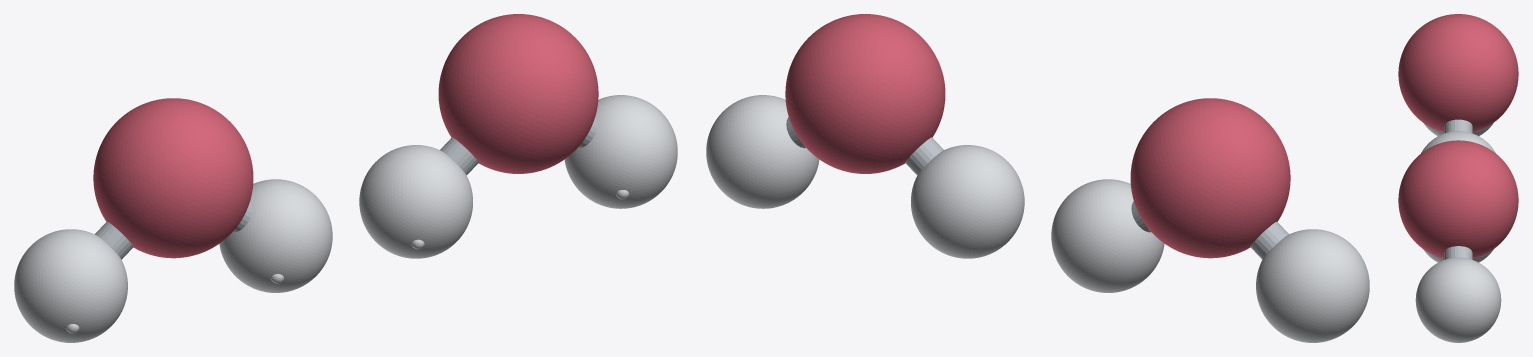
The model's file is 03_DEPOIS_DA_REACAO.glb.
3 views of the same model, side by side, from view 1: azimuth 30°, elevation 25°; view 2: azimuth 150°, elevation 25°; view 3: azimuth 270°, elevation 25° (orthographic). The views are drawn at different scales.
Parts seen in each view (by area): view 1: world; view 2: world; view 3: world.
Boxes of the visible parts, left/top/right/bottom form: world: left=14, top=14, right=677, bottom=342; world: left=706, top=14, right=1369, bottom=342; world: left=1398, top=14, right=1518, bottom=342.
Bounding box in the file's own units: 4.21 × 1.28 × 0.9.
